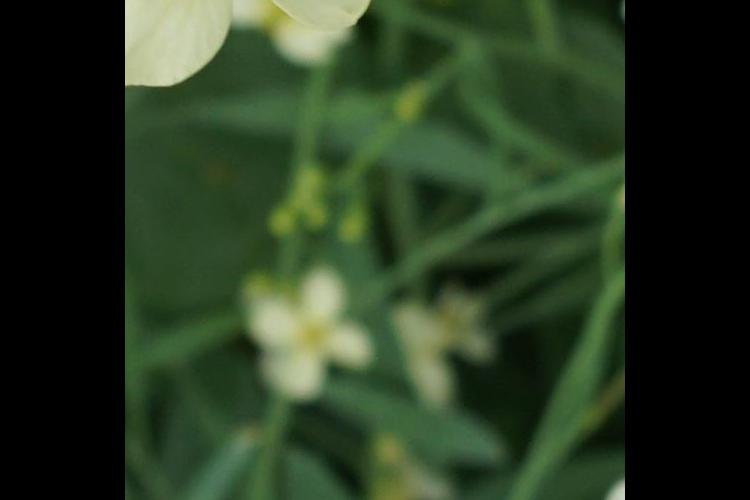white: (127, 1, 380, 97)
